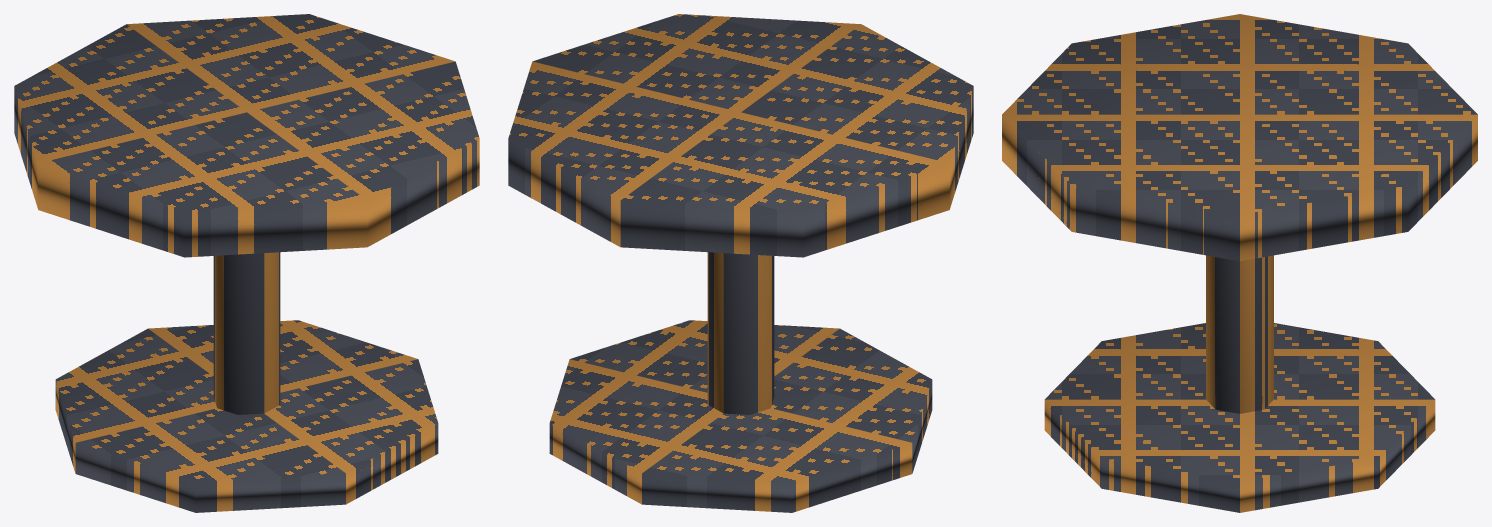
File: SM_Prop_CairoCafeTable_A_LOD2.obj
3 views of the same model, side by side, from view 1: azimuth 30°, elevation 25°; view 2: azimuth 150°, elevation 25°; view 3: azimuth 270°, elevation 25° (orthographic).
Parts seen in each view (by area): view 1: SM_Prop_CairoCafeTable_A_LOD2; view 2: SM_Prop_CairoCafeTable_A_LOD2; view 3: SM_Prop_CairoCafeTable_A_LOD2.
Boxes of the visible parts, x1=… form: SM_Prop_CairoCafeTable_A_LOD2: x1=14, y1=14, x2=479, y2=512; SM_Prop_CairoCafeTable_A_LOD2: x1=508, y1=14, x2=973, y2=512; SM_Prop_CairoCafeTable_A_LOD2: x1=1002, y1=14, x2=1477, y2=512.
Size of the model in its own units: 1.12 by 0.82 by 1.12.
Materials: 1 (1 with a texture image).
